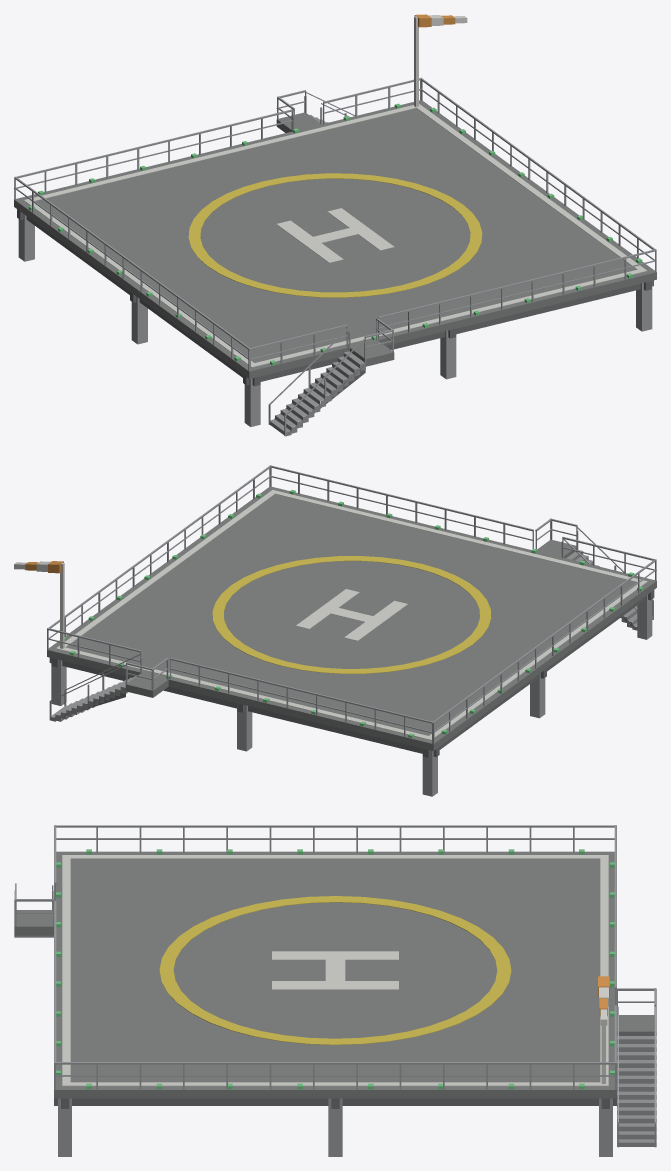
File: helideck.zfix-v2.lod0.glb
3 views of the same model, one above another, from view 1: azimuth 30°, elevation 25°; view 2: azimuth 150°, elevation 25°; view 3: azimuth 270°, elevation 25° (orthographic). The views are drawn at different scales.
Visible parts, largest first — view 1: helideck; view 2: helideck; view 3: helideck.
Part boxes in pixels (left/top/right/bottom): helideck: left=14, top=14, right=656, bottom=436; helideck: left=14, top=465, right=656, bottom=796; helideck: left=14, top=825, right=656, bottom=1156.
Size of the model in its own units: 21.92 by 6.92 by 22.83.
